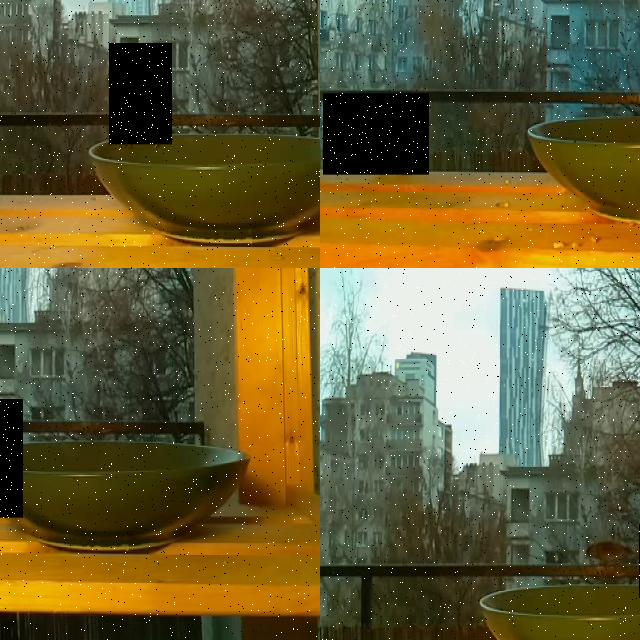Bogatka: (109, 43, 172, 144)
Modraszka: (323, 93, 429, 175)
Wrobel: (0, 399, 23, 517)
